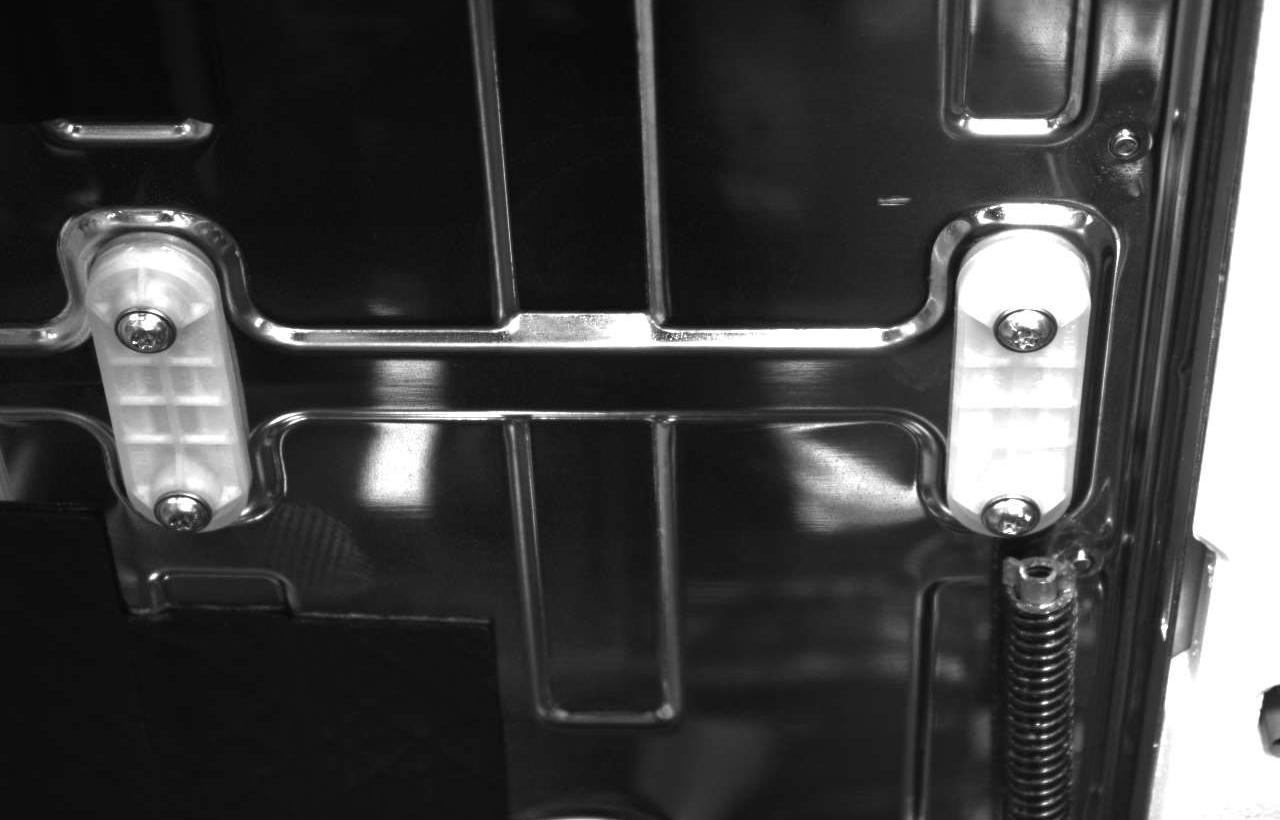vida-ok: (113, 295, 184, 362), (993, 295, 1060, 362), (150, 482, 216, 541), (980, 481, 1046, 539)
